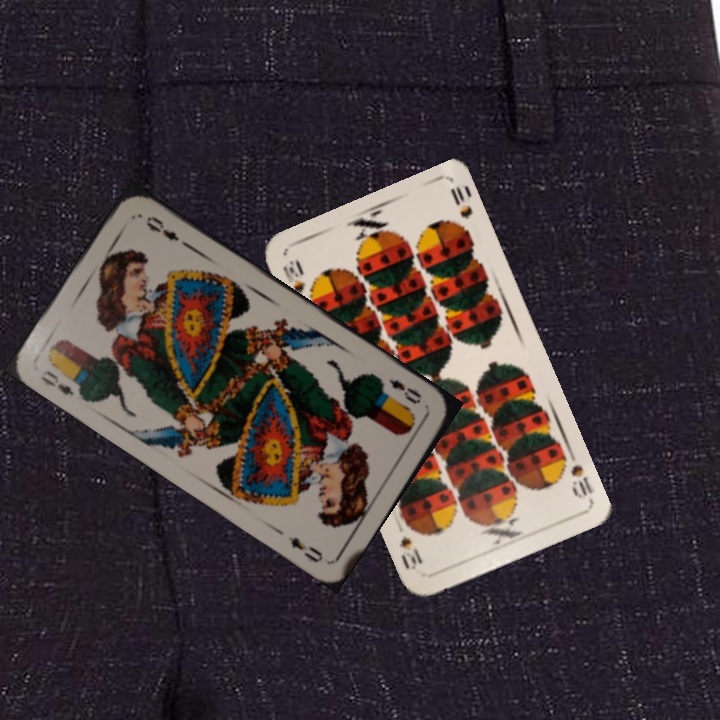EO: (37, 366, 77, 399), (385, 375, 424, 407)
S10: (556, 447, 597, 501), (278, 255, 308, 296)
